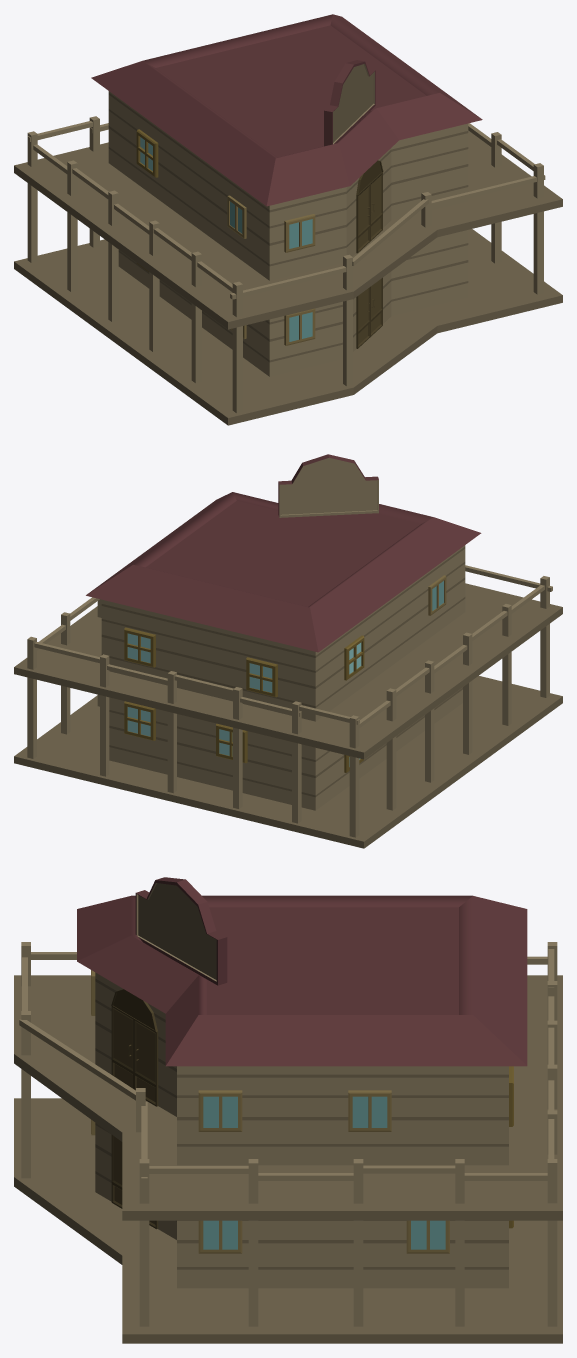
The model's file is Building_01_RedTop.fbx.
3 views of the same model, one above another, from view 1: azimuth 30°, elevation 25°; view 2: azimuth 150°, elevation 25°; view 3: azimuth 270°, elevation 25° (orthographic). The views are drawn at different scales.
Parts seen in each view (by area): view 1: Building_01; view 2: Building_01; view 3: Building_01.
Part boxes in pixels (x1,y1,x2,y2): Building_01: (14,14,562,425); Building_01: (14,454,562,848); Building_01: (14,877,562,1343).
Size of the model in its own units: 870 by 592 by 856.
